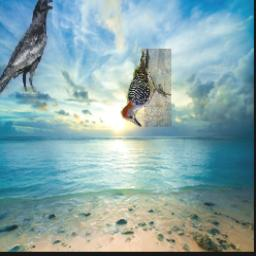Crow: (0, 0, 53, 97)
Woodpecker: (118, 49, 171, 127)
